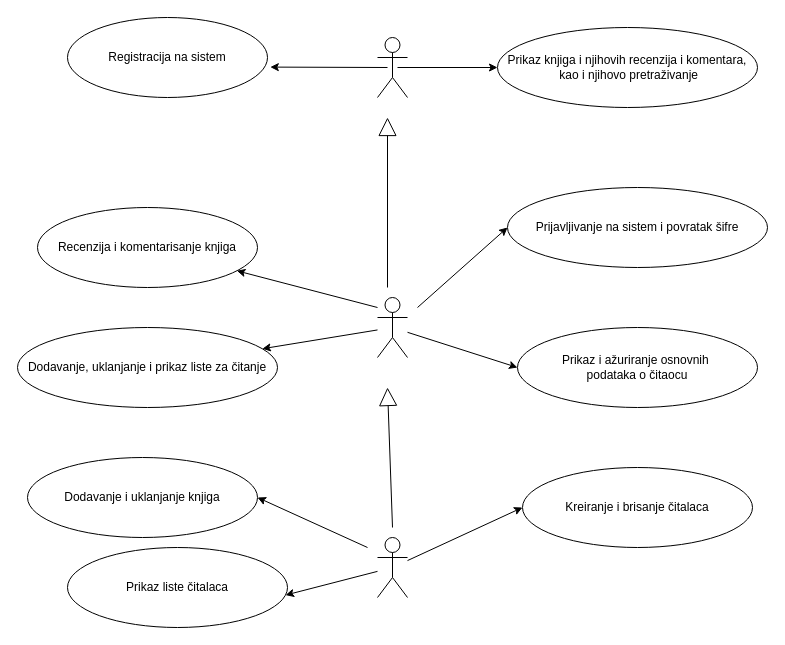
Image size: 785x645. Some labels were removed from this diagram. Here are the shapes that lost their labels. From the top down, the centre of each, then its label:
At (392,67): "Neulogovani korisnik".
At (392,327): "Ulogovani korisnik".
At (392,567): "Administrator".
